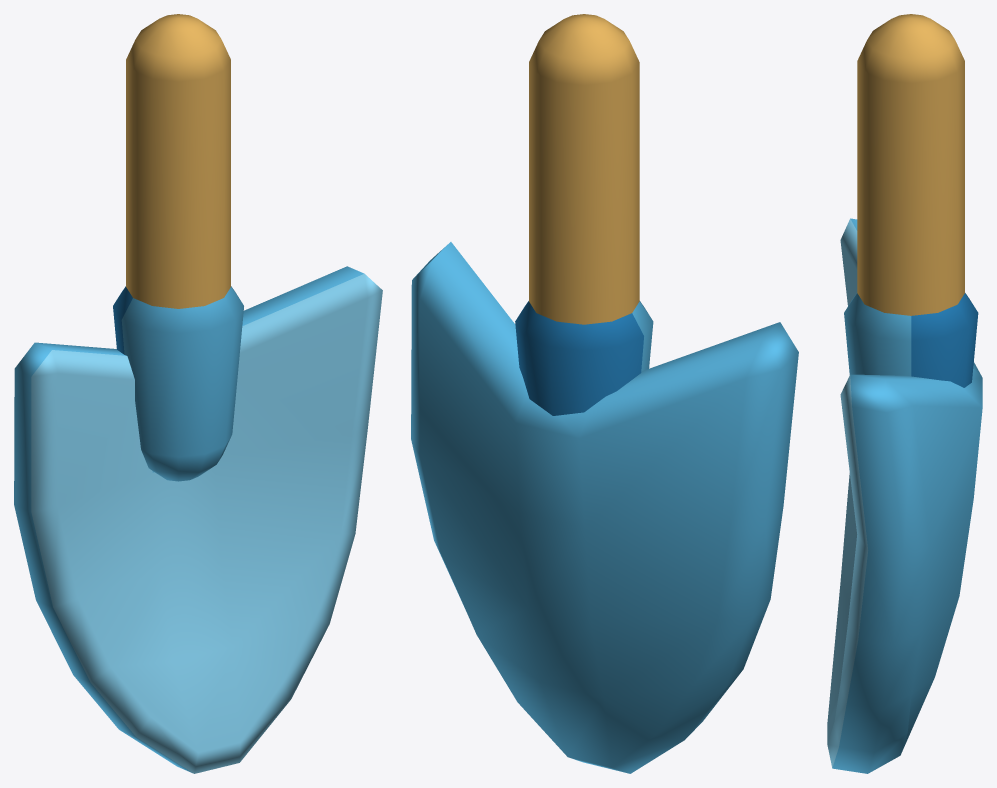
Rendered from mesh_shovel.fbx.
The picture shows the model from 3 angles, left to right: view 1: azimuth 30°, elevation 25°; view 2: azimuth 150°, elevation 25°; view 3: azimuth 270°, elevation 25°; orthographic projection. The views are drawn at different scales.
Visible parts, largest first — view 1: mesh_shovel; view 2: mesh_shovel; view 3: mesh_shovel.
Boxes of the visible parts, x1,y1,x2,y2 form: mesh_shovel: [14, 14, 382, 773]; mesh_shovel: [411, 14, 798, 773]; mesh_shovel: [827, 14, 982, 773].
Bounding box in the file's own units: 0.6956 × 1.38 × 0.2604.
1 material, 1 textured.
